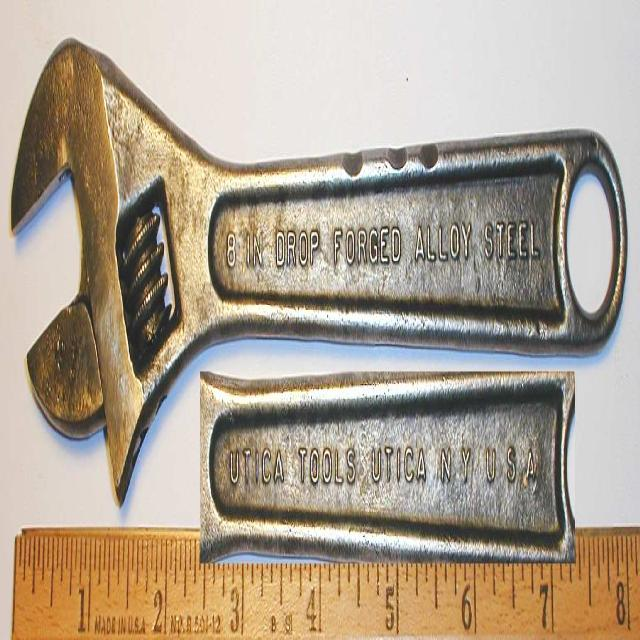wrench: (7, 29, 640, 504)
